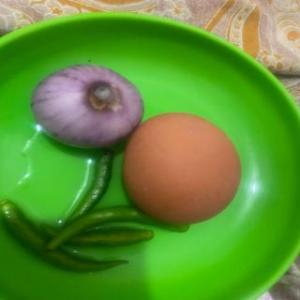egg: (122, 112, 244, 224)
